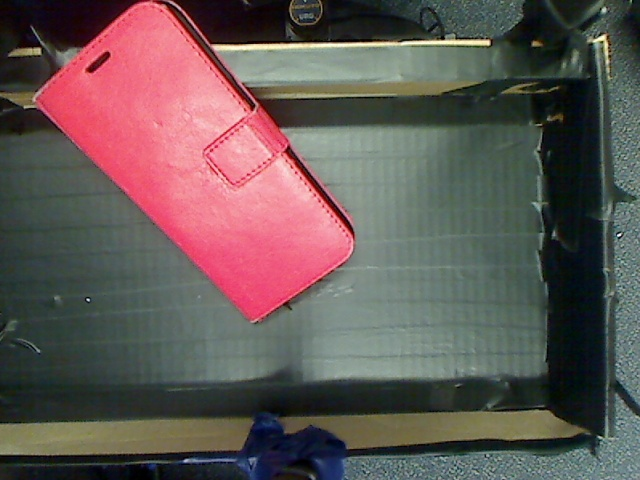phone: (20, 3, 377, 331)
